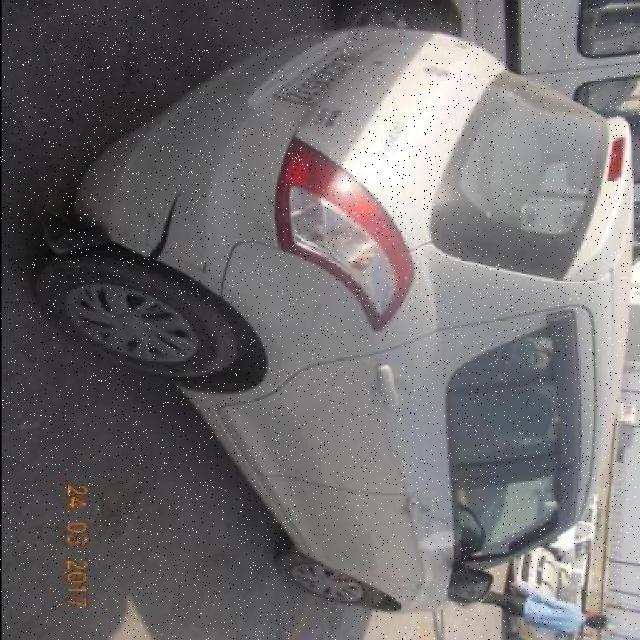damage: (140, 189, 187, 264), (177, 261, 211, 277)
